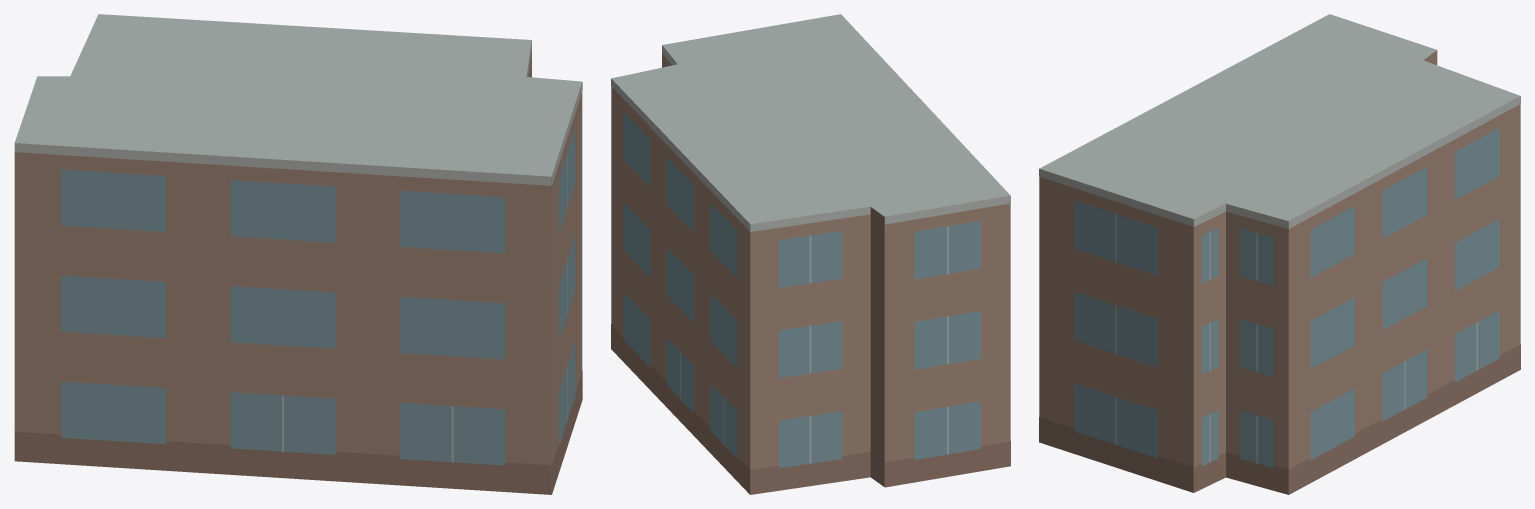
Rendered from survey-upis-32546724.glb.
3 views of the same model, side by side, from view 1: azimuth 30°, elevation 25°; view 2: azimuth 150°, elevation 25°; view 3: azimuth 270°, elevation 25° (orthographic). The views are drawn at different scales.
Parts seen in each view (by area): view 1: survey-upis-32546724.tmp; view 2: survey-upis-32546724.tmp; view 3: survey-upis-32546724.tmp.
Part boxes in pixels (<box>): survey-upis-32546724.tmp: <box>14,14,582,494</box>; survey-upis-32546724.tmp: <box>611,14,1010,494</box>; survey-upis-32546724.tmp: <box>1039,14,1520,494</box>.
Bounding box in the file's own units: 13.81 × 8.5 × 13.57.
